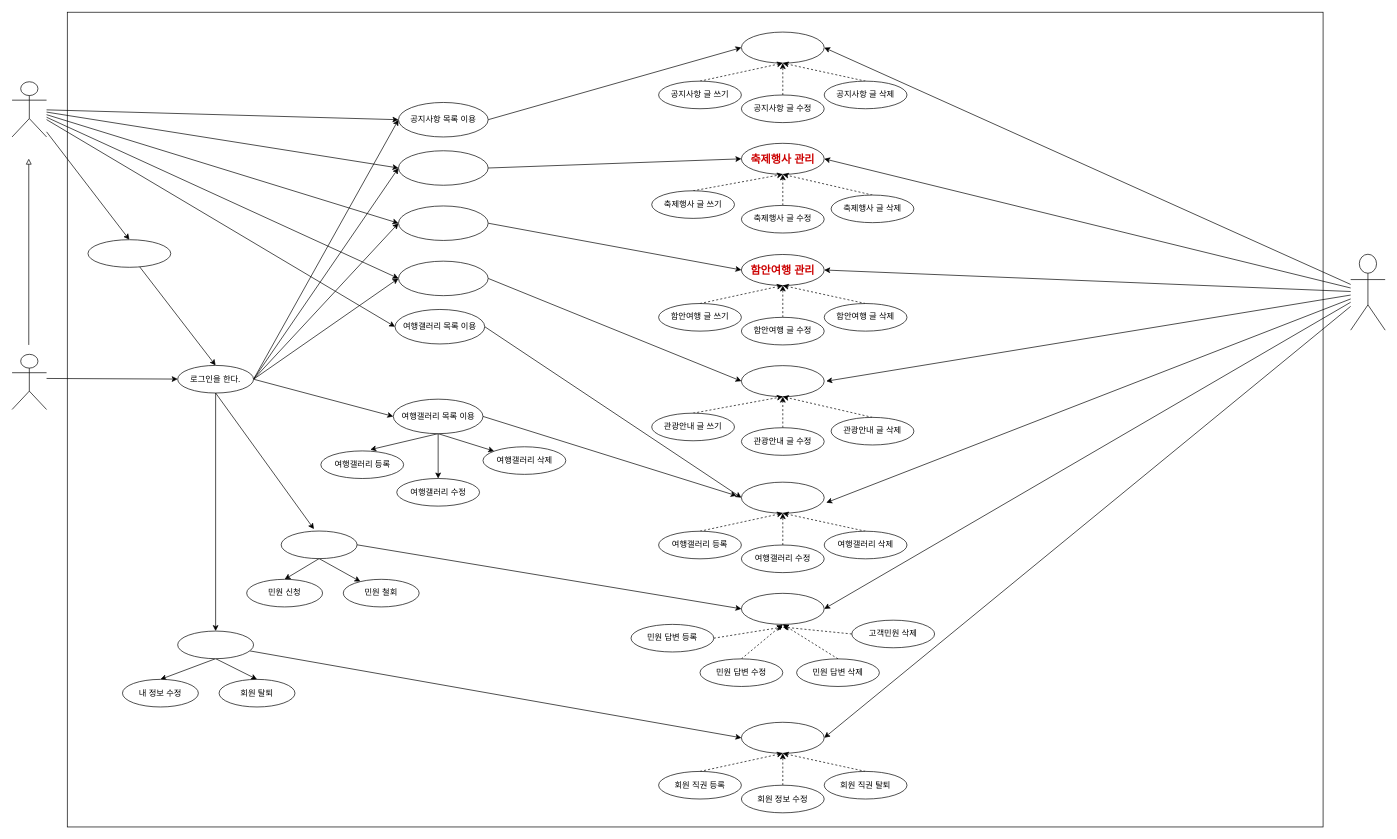
Image size: 1397x839. Some labels were removed from this diagram. Each missing label, with the centre of its shape:
고객민원 관리: pixel 782 608
공지사항 관리: pixel 782 47
관광안내 관리: pixel 782 381
관광안내 목록 이용: pixel 443 278
관리자: pixel 1367 292
나의 민원 확인: pixel 318 544
내 정보 확인: pixel 215 644
비회원: pixel 29 109
여행갤러리 관리: pixel 782 497
축제행사 목록 이용: pixel 443 167
함안여행 목록 이용: pixel 443 222
회원: pixel 29 382
회원 관리: pixel 782 737
회원가입을 한다.: pixel 129 253
